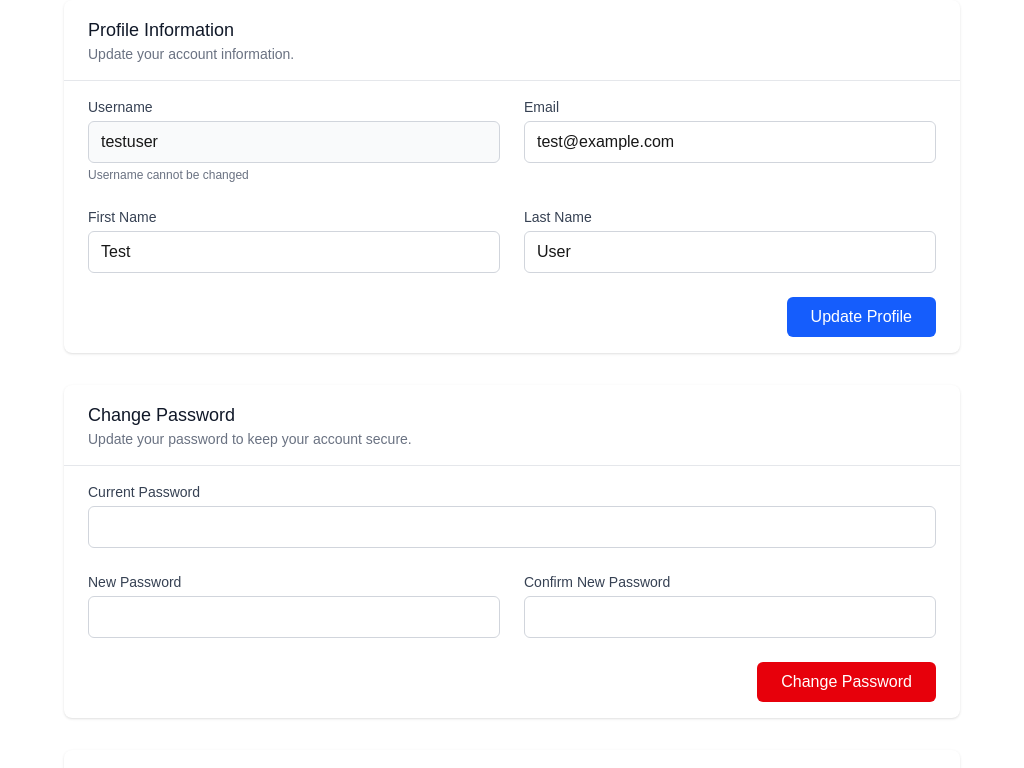
Scenario: ProfilePage Component › Password Change Form › should show success message after successful password change
This screenshot has width=1024, height=768.
Type "oldpassword" into the password field below "Current Password" at x=512, y=527, box x1=88 y1=506 x2=936 y2=548
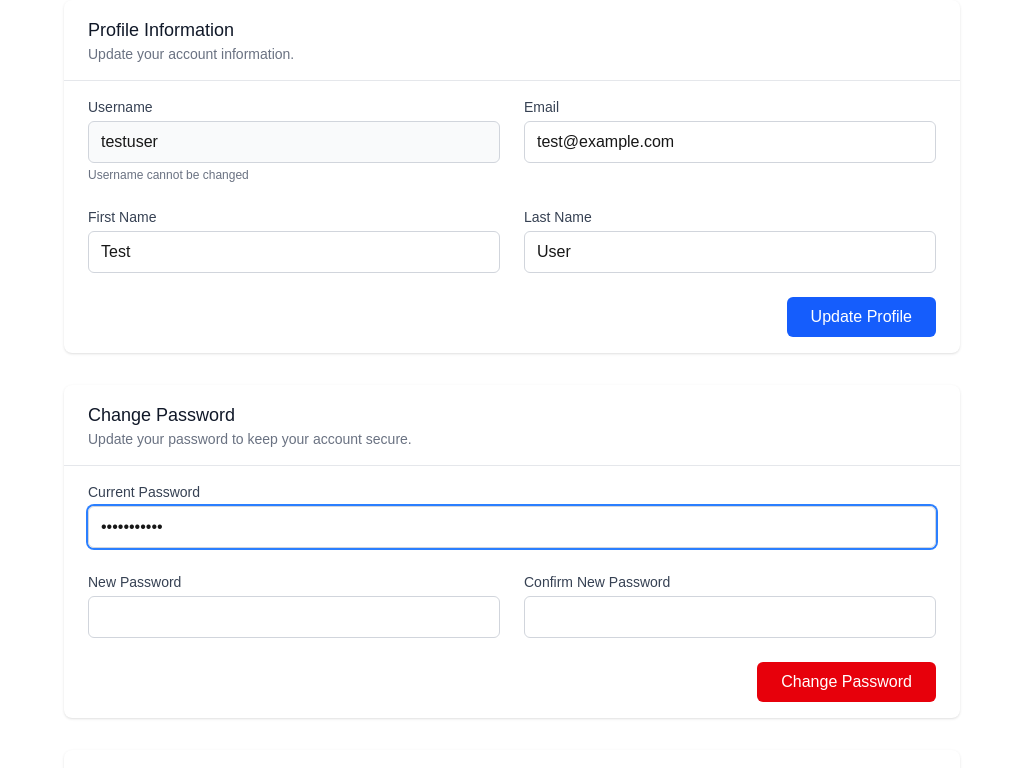
Type "newpassword" into the 2nd password field at x=294, y=617, box x1=88 y1=596 x2=500 y2=638
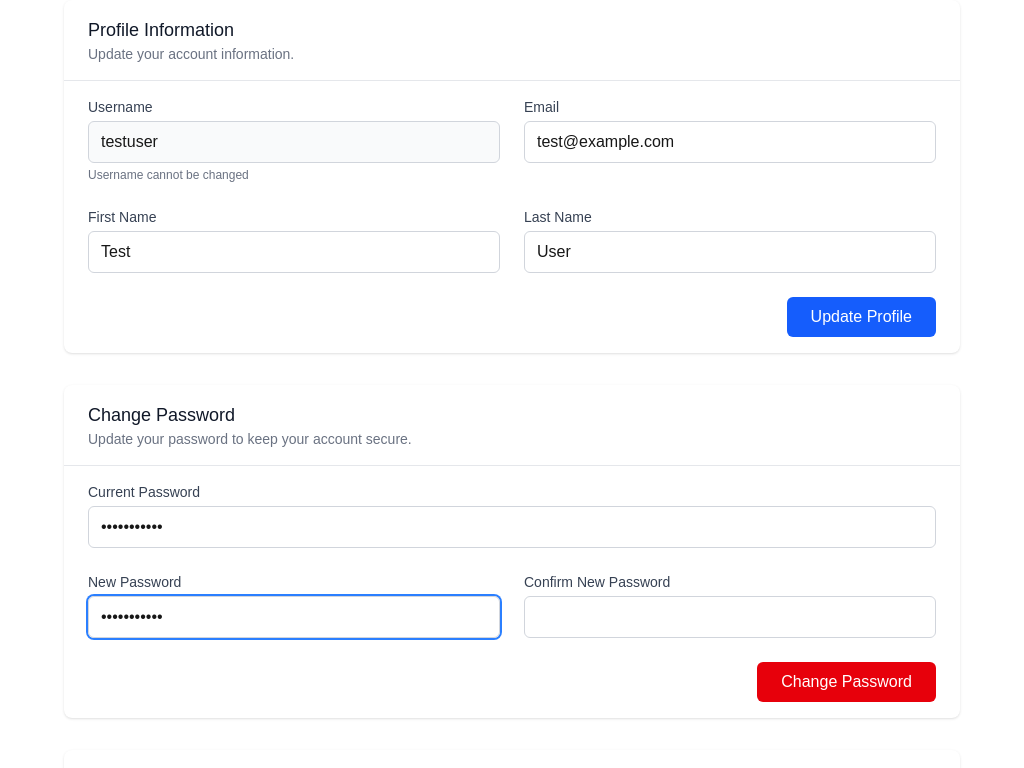
Type "newpassword" into the password field below "Confirm New Password" at x=730, y=617, box x1=524 y1=596 x2=936 y2=638
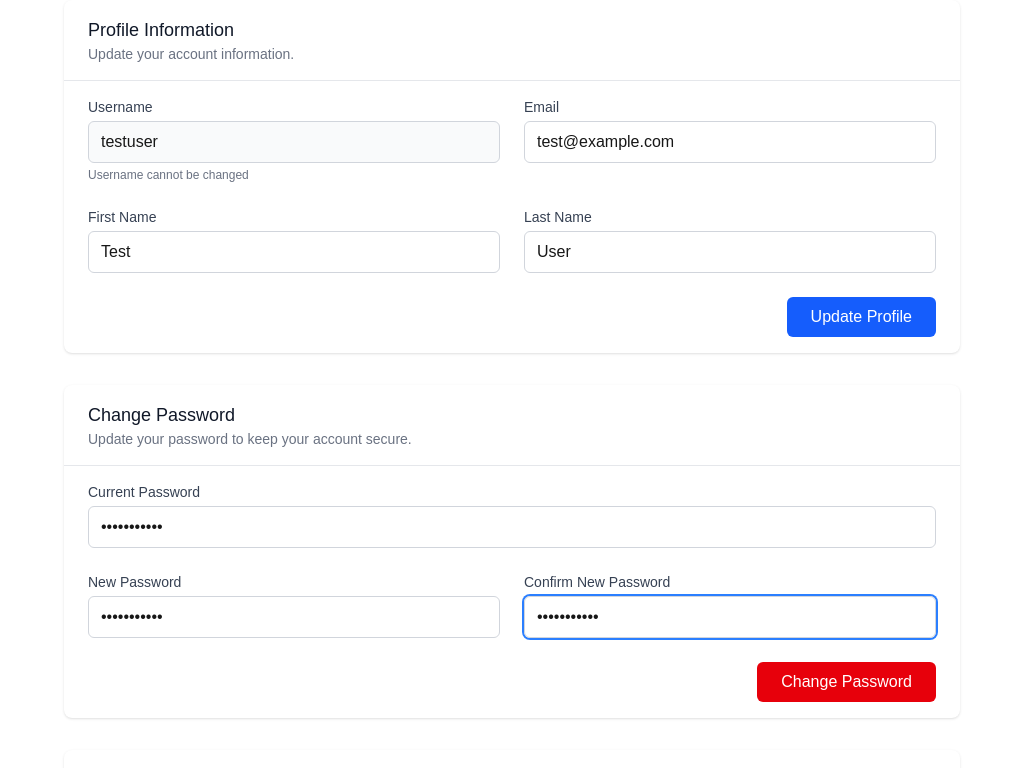
Click the button "Change Password" at x=847, y=682, box x1=757 y1=662 x2=936 y2=702
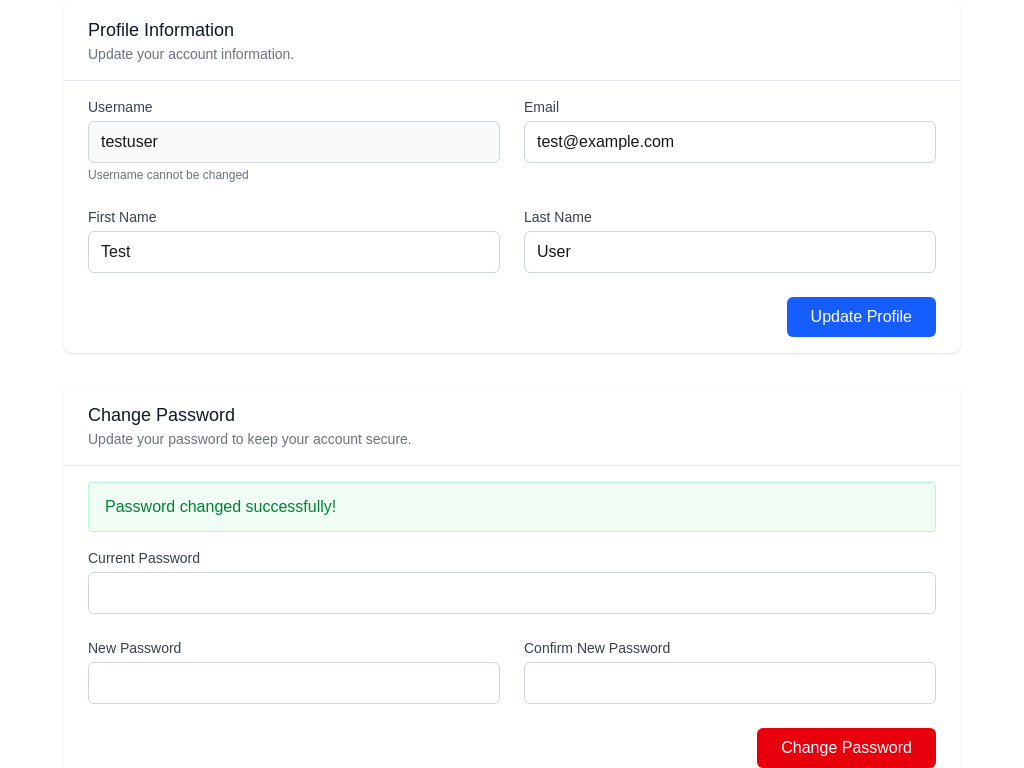
Expected: the text "Password changed successfully!" is shown, x1=88 y1=482 x2=936 y2=532
